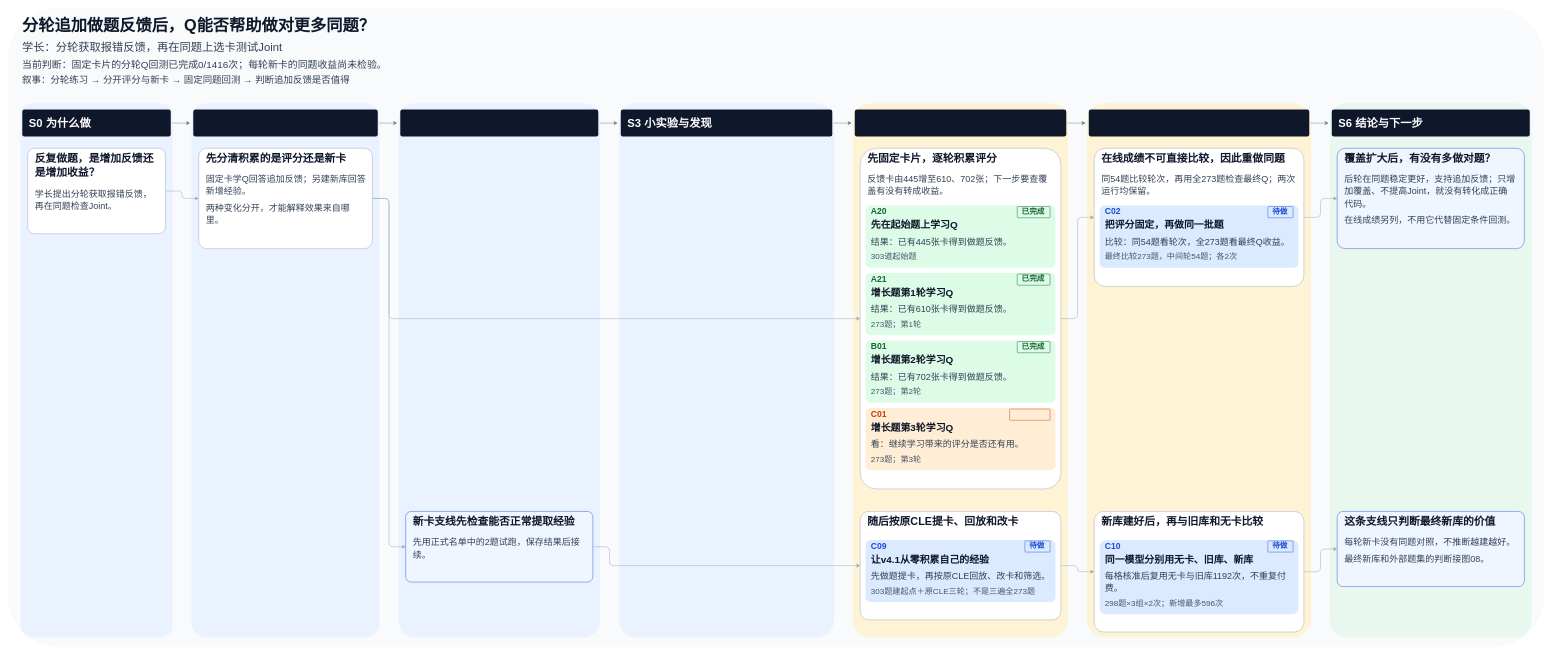
Some shapes in this 1552 by 655 pixel diagram are drawn without their labels. Each missing label, with the centre of its shape:
"S1 怎样比较" goes at (x=285, y=122).
"S2 先验证哪一步" goes at (x=499, y=122).
"S4 继续学习或建方法" goes at (x=960, y=122).
"S5 完成主要比较" goes at (x=1199, y=122).
"正在运行" goes at (x=1029, y=414).
